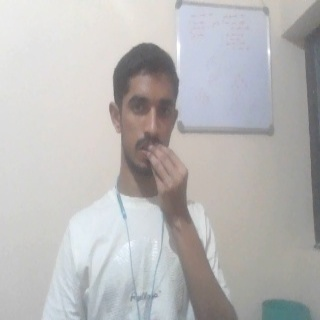Food: (145, 142, 191, 236)
